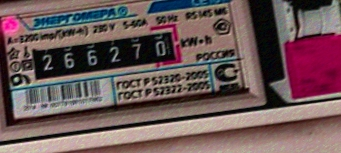0: (153, 39, 167, 57)
2: (38, 52, 54, 72), (107, 44, 120, 64)
6: (61, 50, 76, 70), (84, 48, 98, 68)
7: (130, 41, 143, 60)
screen: (19, 19, 188, 90)
